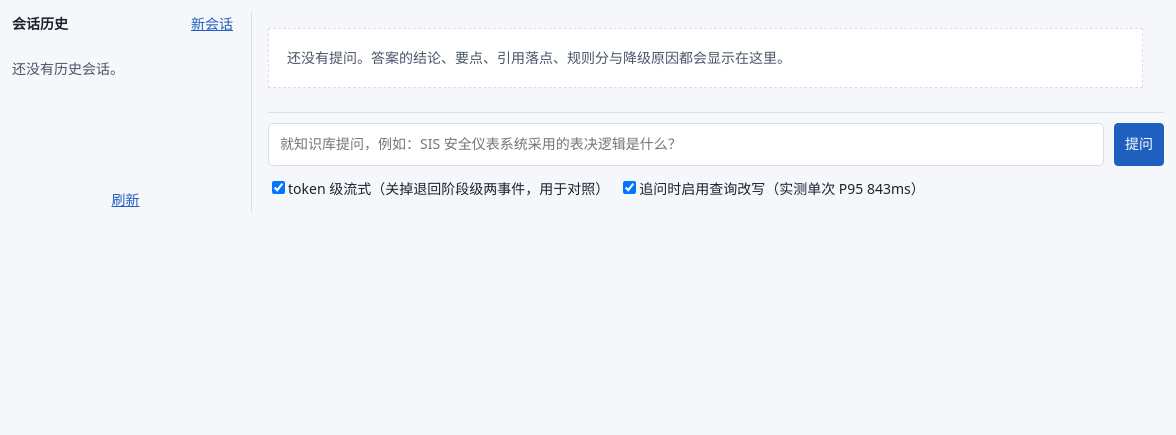
Scenario: 问答页的三态渲染 › provisional 增量与最终答案是**不同的样式类**，且结束后不留未完成态
Type "表决逻辑是什么？" into the search field named "问题" at (686, 145), box [268,123,1104,166]
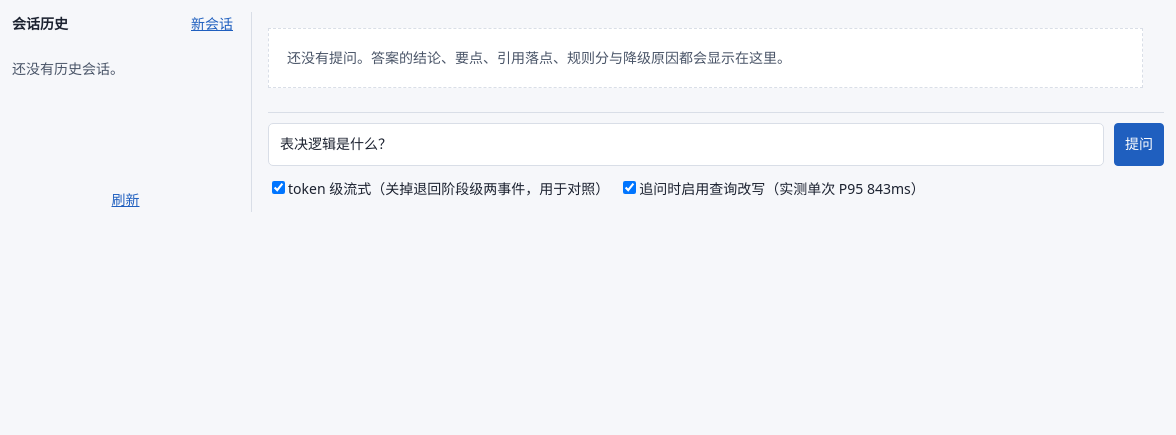
Click the button "提问" at (1139, 145), box [1114,123,1164,166]
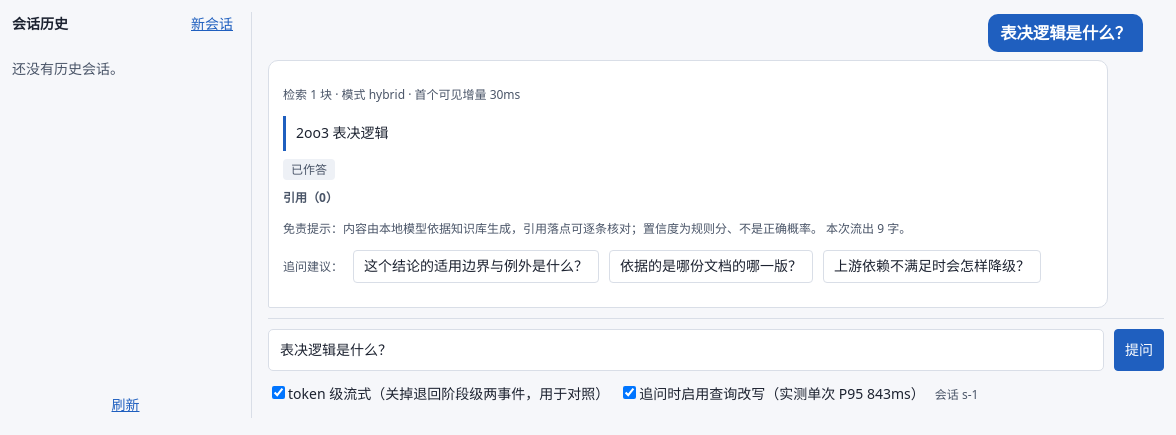
expect the text with test id "conclusion-final" reads "2oo3 表决逻辑": met, box [296,123,389,142]
